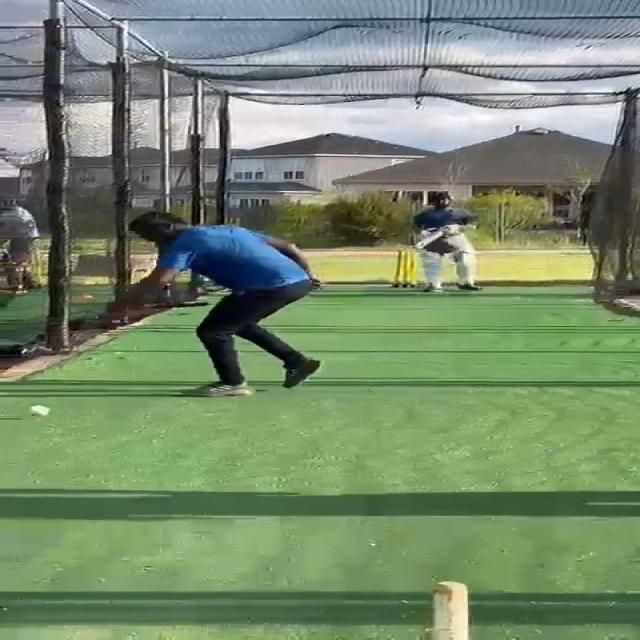batsman: (408, 192, 485, 293)
